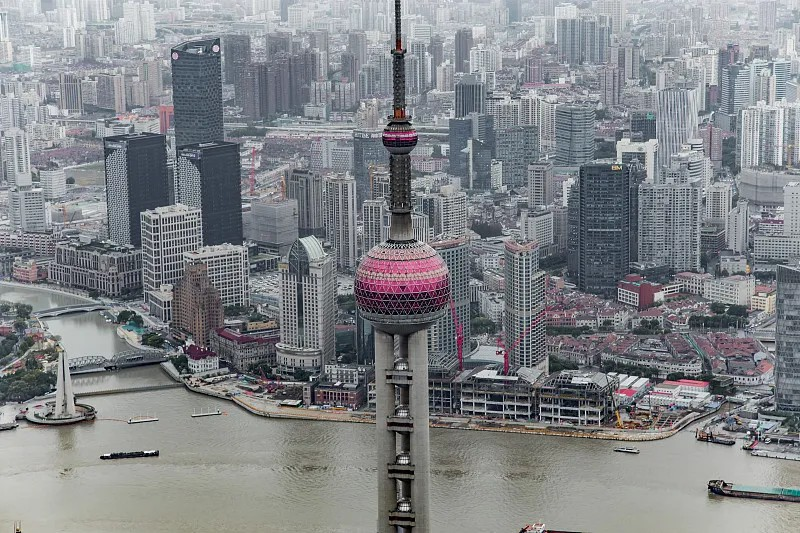Oriental: (355, 1, 451, 533)
